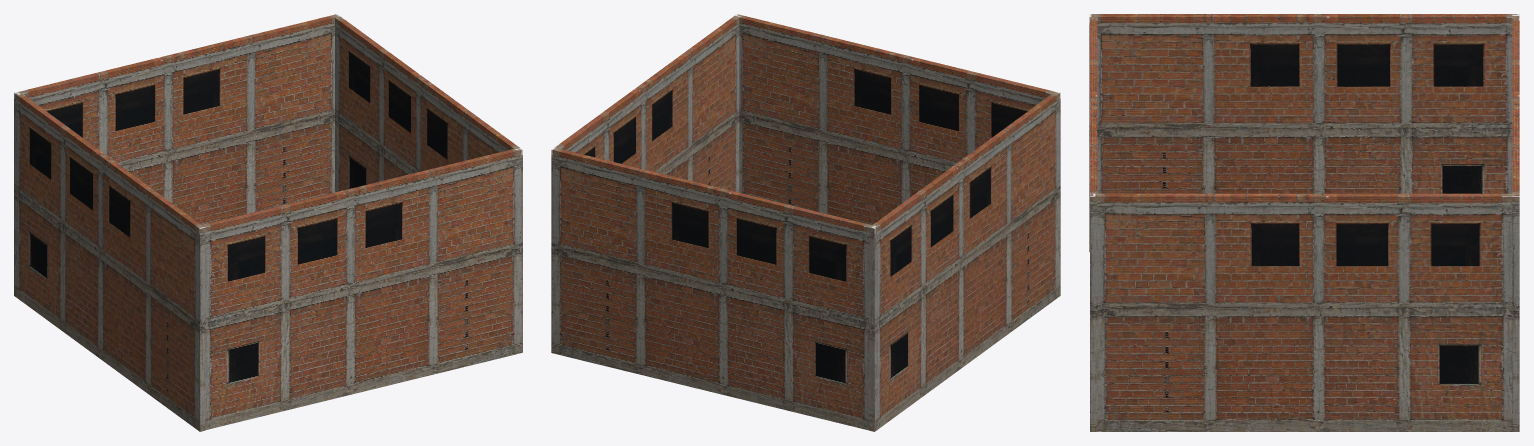
File: casa_izquierda_18.fbx
The picture shows the model from 3 angles, left to right: view 1: azimuth 30°, elevation 25°; view 2: azimuth 150°, elevation 25°; view 3: azimuth 270°, elevation 25°; orthographic projection. The views are drawn at different scales.
Parts seen in each view (by area): view 1: casa_izquierda_18.002, casa_izquierda_18.003, casa_izquierda_18.001, casa_izquierda_18.004; view 2: casa_izquierda_18.003, casa_izquierda_18.002, casa_izquierda_18.001, casa_izquierda_18.004; view 3: casa_izquierda_18.004, casa_izquierda_18.001, casa_izquierda_18.003, casa_izquierda_18.002.
Boxes of the visible parts, x1,y1,x2,y2 form: casa_izquierda_18.002: (202, 148, 522, 430); casa_izquierda_18.003: (16, 14, 339, 224); casa_izquierda_18.001: (14, 91, 205, 431); casa_izquierda_18.004: (335, 16, 520, 192); casa_izquierda_18.003: (551, 147, 875, 430); casa_izquierda_18.002: (734, 14, 1054, 224); casa_izquierda_18.001: (869, 91, 1060, 431); casa_izquierda_18.004: (555, 15, 740, 192); casa_izquierda_18.004: (1093, 193, 1512, 431); casa_izquierda_18.001: (1089, 14, 1519, 252); casa_izquierda_18.003: (1512, 14, 1519, 431); casa_izquierda_18.002: (1090, 17, 1097, 431).
Size of the model in its own units: 1025 by 616 by 1021.
